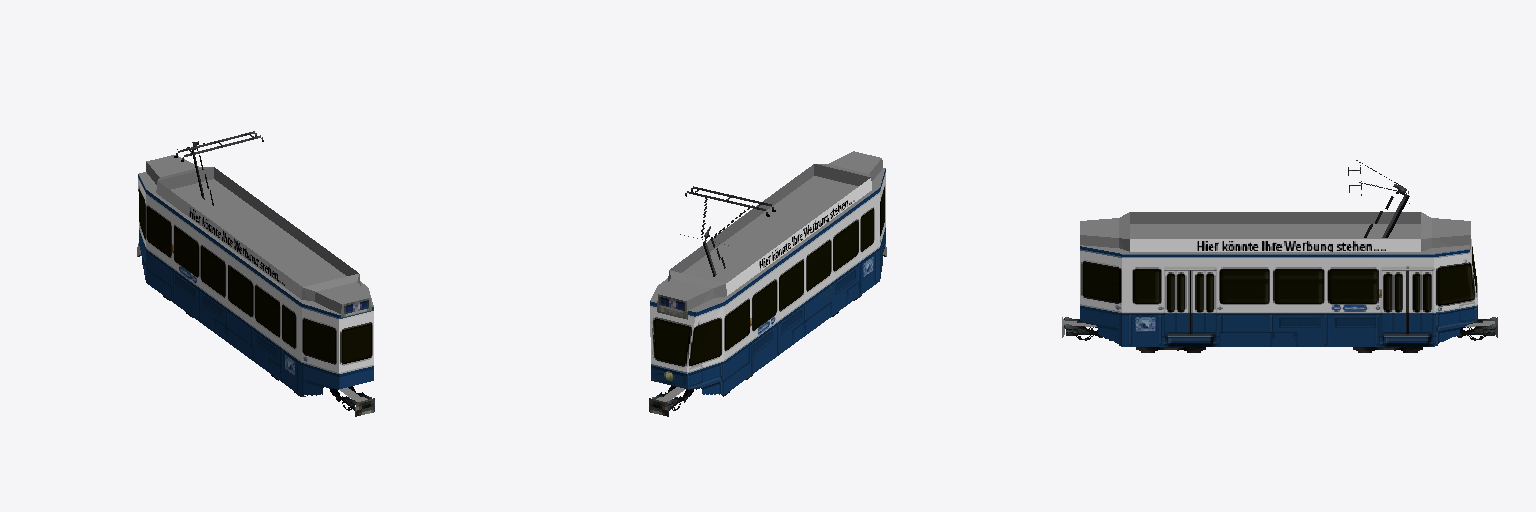
3 renders of one model, left to right at view 1: azimuth 30°, elevation 25°; view 2: azimuth 150°, elevation 25°; view 3: azimuth 270°, elevation 25°, orthographic.
Parts seen in each view (by area): view 1: tram2000_small; view 2: tram2000_small; view 3: tram2000_small.
Boxes of the visible parts, box(x1,y1,x2,y2) form: tram2000_small: box(137, 131, 374, 416); tram2000_small: box(649, 151, 886, 416); tram2000_small: box(1062, 160, 1497, 352).
Bounding box in the file's own units: 0.1357 × 0.2473 × 0.5708.
Materials: 1 (1 with a texture image).